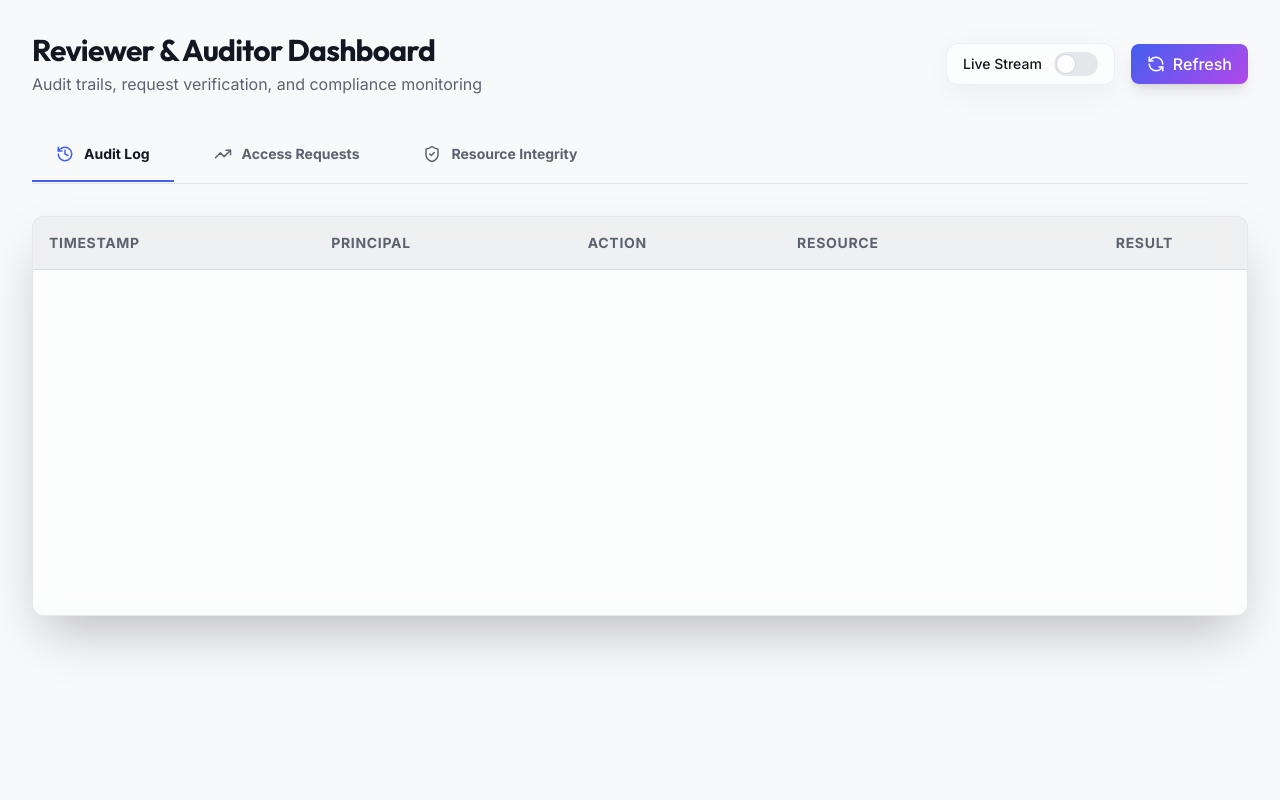
Scenario: ReviewerDashboard › shows integrity placeholder
The image size is (1280, 800).
Step 1. Click the button "Resource Integrity" → click(500, 155), box x1=400 y1=128 x2=602 y2=182
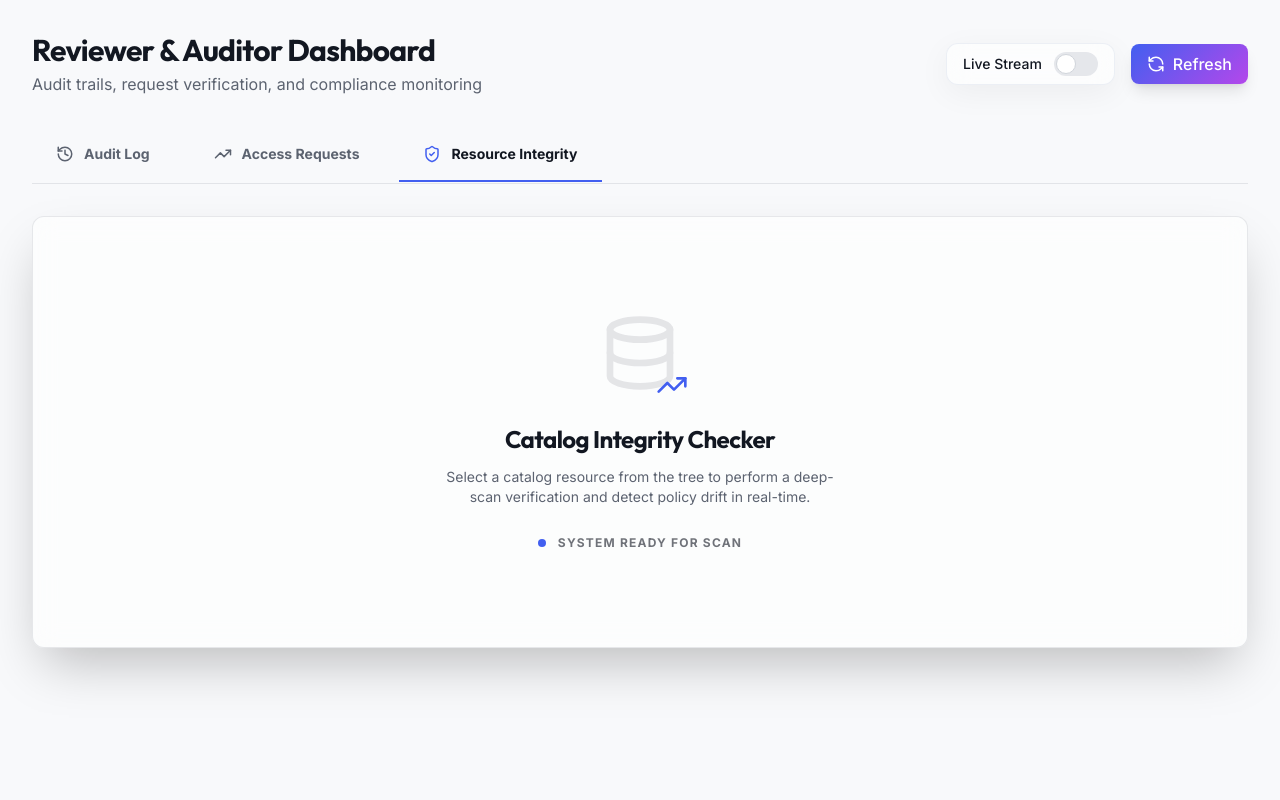
Result: the heading "Catalog Integrity Checker" is shown at x1=505 y1=424 x2=775 y2=454
